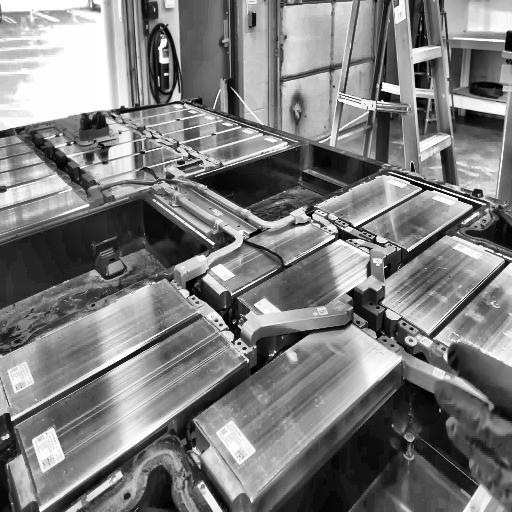battery_module: (0, 74, 512, 488)
busbar: (14, 93, 489, 434)
